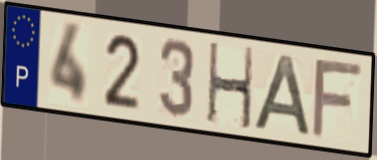2: (103, 31, 143, 111)
3: (157, 36, 198, 122)
4: (46, 19, 90, 109)
A: (250, 51, 315, 139)
F: (309, 58, 366, 141)
H: (205, 40, 256, 133)
